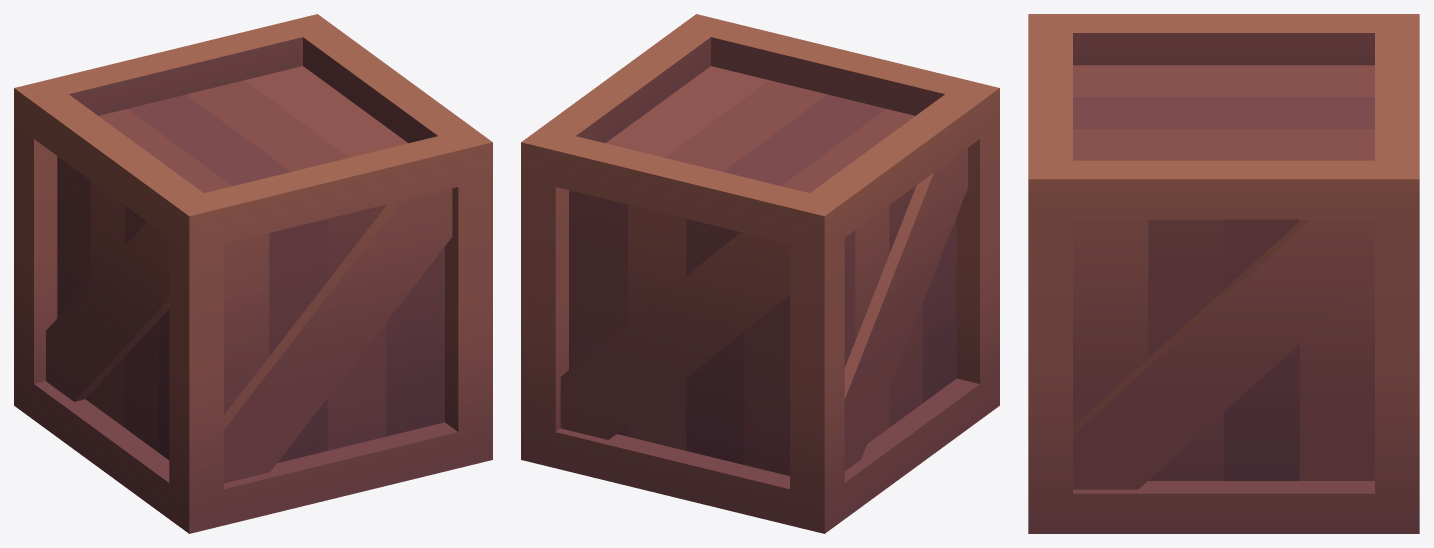
Rendered from Crate.obj.
3 renders of one model, left to right at view 1: azimuth 30°, elevation 25°; view 2: azimuth 150°, elevation 25°; view 3: azimuth 270°, elevation 25°, orthographic. The views are drawn at different scales.
Parts seen in each view (by area): view 1: {mesh}Crate_Cube.002; view 2: {mesh}Crate_Cube.002; view 3: {mesh}Crate_Cube.002.
Part boxes in pixels (box(x1,y1,x2,y2)): {mesh}Crate_Cube.002: box(14, 14, 492, 533); {mesh}Crate_Cube.002: box(521, 14, 999, 533); {mesh}Crate_Cube.002: box(1028, 14, 1419, 533).
Bounding box in the file's own units: 34.7 × 34.7 × 34.7.
Materials: 1 (1 with a texture image).
